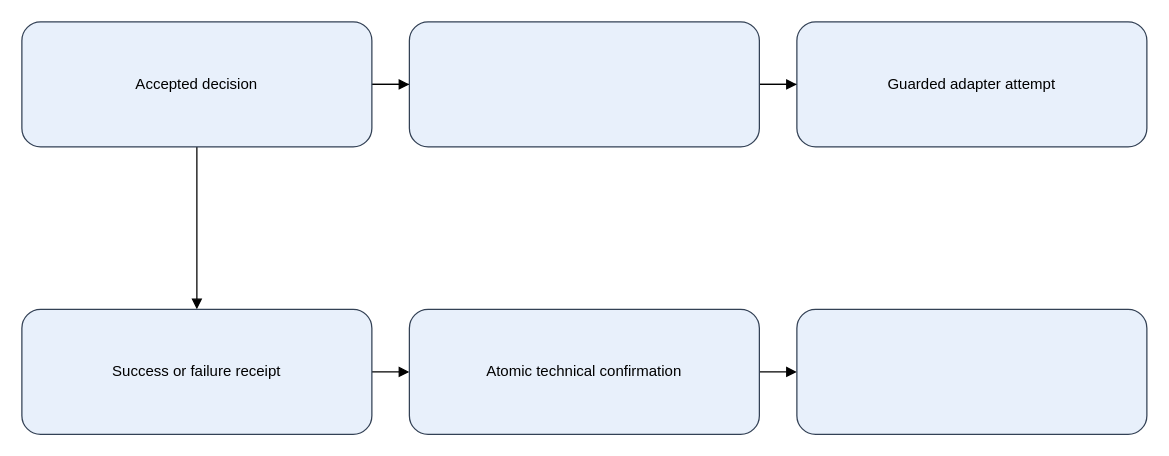
This 1169x456 diagram has some shape labels left out. Here are the shapes that lost their labels. From the top down, the centre of each, then its label:
At pixel 583 84: "Scoped authorization and binding".
At pixel 971 371: "Institutional safeguard gate".
